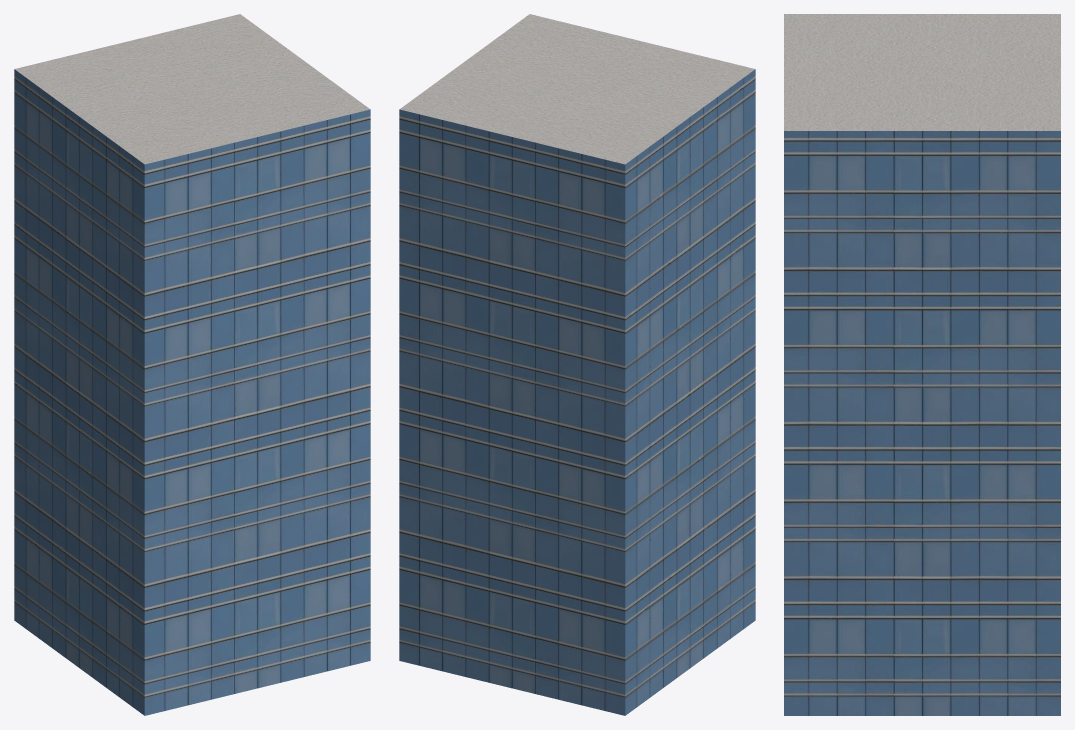
File: Building 6.fbx
3 views of the same model, side by side, from view 1: azimuth 30°, elevation 25°; view 2: azimuth 150°, elevation 25°; view 3: azimuth 270°, elevation 25° (orthographic). The views are drawn at different scales.
Parts seen in each view (by area): view 1: Building 6; view 2: Building 6; view 3: Building 6.
Boxes of the visible parts, x1,y1,x2,y2 form: Building 6: [14, 14, 370, 715]; Building 6: [399, 14, 755, 715]; Building 6: [784, 14, 1060, 715].
Size of the model in its own units: 1350 by 3150 by 1350.
2 materials, 2 textured.
